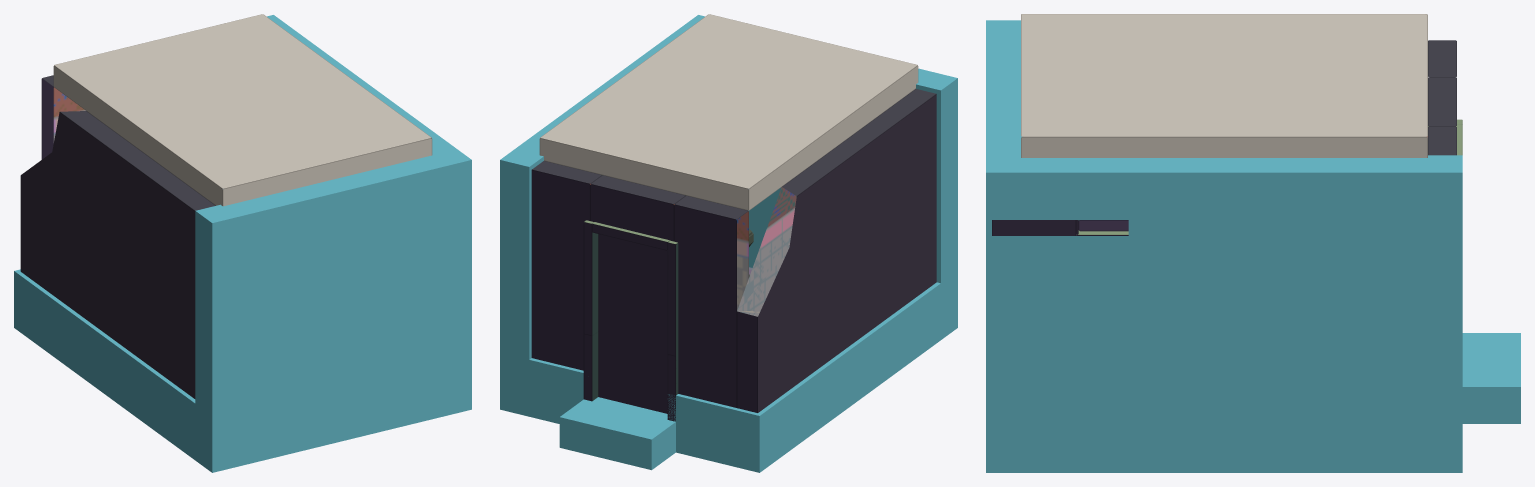
Rendered from broken_room_restroom.fbx.
3 renders of one model, left to right at view 1: azimuth 30°, elevation 25°; view 2: azimuth 150°, elevation 25°; view 3: azimuth 270°, elevation 25°, orthographic. The views are drawn at different scales.
Visible parts, largest first — view 1: map border, cuboid_4, wall behind_7, wall behind_6; view 2: cuboid_4, map border, wall behind_7, wall behind_6, door, wall behind_5, frames_2, wall behind_8, frames_1; view 3: map border, cuboid_4, wall behind_8, wall behind_11, wall behind_6, wall behind_5, cuboid_3.
Part boxes in pixels (x1,y1,x2,y2): map border: [14, 15, 471, 472]; cuboid_4: [53, 14, 432, 206]; wall behind_7: [20, 111, 215, 398]; wall behind_6: [41, 75, 85, 159]; cuboid_4: [539, 14, 918, 210]; map border: [500, 15, 957, 472]; wall behind_7: [737, 89, 936, 412]; wall behind_6: [674, 195, 748, 407]; door: [598, 234, 667, 413]; wall behind_5: [531, 161, 601, 370]; frames_2: [583, 220, 678, 421]; wall behind_8: [590, 175, 685, 242]; frames_1: [583, 331, 677, 419]; map border: [986, 20, 1520, 472]; cuboid_4: [1021, 14, 1427, 157]; wall behind_8: [1428, 77, 1456, 126]; wall behind_11: [992, 220, 1076, 235]; wall behind_6: [1428, 40, 1456, 77]; wall behind_5: [1428, 126, 1456, 155]; cuboid_3: [1078, 221, 1128, 231].
Bounding box in the file's own units: 775 × 762 × 1150.
14 materials, 14 textured.
